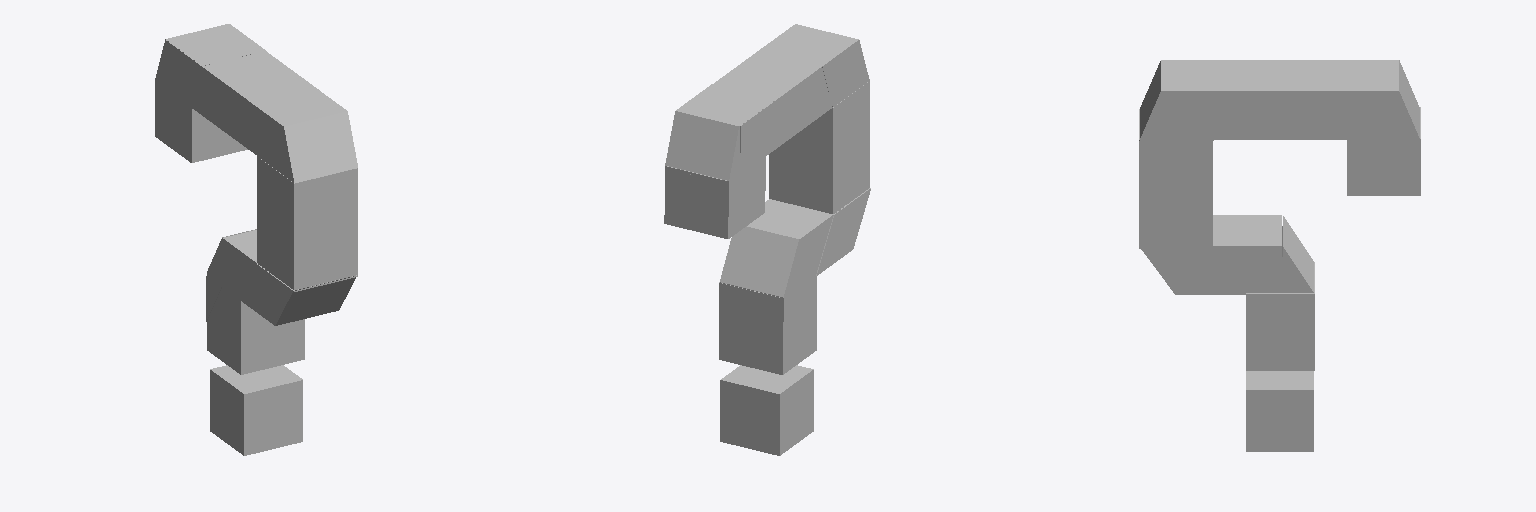
Rendered from Question.obj.
3 renders of one model, left to right at view 1: azimuth 30°, elevation 25°; view 2: azimuth 150°, elevation 25°; view 3: azimuth 270°, elevation 25°, orthographic.
Visible parts, largest first — view 1: Cube.003_Cube.004, Cube.002_Cube.012, Cube, Cube.005_Cube.006, Cube.001, Cube.009_Cube.011, Cube.006_Cube.014, Cube.004_Cube.013, Cube.008_Cube.009, Cube.007_Cube.008; view 2: Cube.003_Cube.004, Cube, Cube.005_Cube.006, Cube.001, Cube.004_Cube.013, Cube.006_Cube.014, Cube.007_Cube.008, Cube.002_Cube.012, Cube.008_Cube.009, Cube.009_Cube.011; view 3: Cube.005_Cube.006, Cube.003_Cube.004, Cube.008_Cube.009, Cube.004_Cube.013, Cube.002_Cube.012, Cube, Cube.001, Cube.006_Cube.014, Cube.007_Cube.008, Cube.009_Cube.011.
Part boxes in pixels (x1,y1,x2,y2): Cube.003_Cube.004: (257,157,357,291); Cube.002_Cube.012: (247,84,357,182); Cube: (210,365,302,455); Cube.005_Cube.006: (165,40,318,154); Cube.001: (207,287,304,374); Cube.009_Cube.011: (239,264,356,325); Cube.006_Cube.014: (155,81,247,162); Cube.004_Cube.013: (155,24,265,87); Cube.008_Cube.009: (222,230,269,298); Cube.007_Cube.008: (206,229,256,321); Cube.003_Cube.004: (769,81,869,213); Cube: (720,365,813,455); Cube.005_Cube.006: (714,43,832,174); Cube.001: (719,277,816,374); Cube.004_Cube.013: (665,84,775,182); Cube.006_Cube.014: (664,157,765,238); Cube.007_Cube.008: (720,226,798,345); Cube.002_Cube.012: (759,24,869,106); Cube.008_Cube.009: (747,199,845,287); Cube.009_Cube.011: (816,188,870,276); Cube.005_Cube.006: (1212,60,1345,139); Cube.003_Cube.004: (1139,109,1212,248); Cube.008_Cube.009: (1187,215,1282,294); Cube.004_Cube.013: (1325,60,1419,139); Cube.002_Cube.012: (1139,60,1234,140); Cube: (1246,371,1313,451); Cube.001: (1246,262,1314,370); Cube.006_Cube.014: (1347,107,1420,195); Cube.007_Cube.008: (1283,216,1313,292); Cube.009_Cube.011: (1141,249,1186,294).
Size of the model in its own units: 2.23 by 11.67 by 8.25.